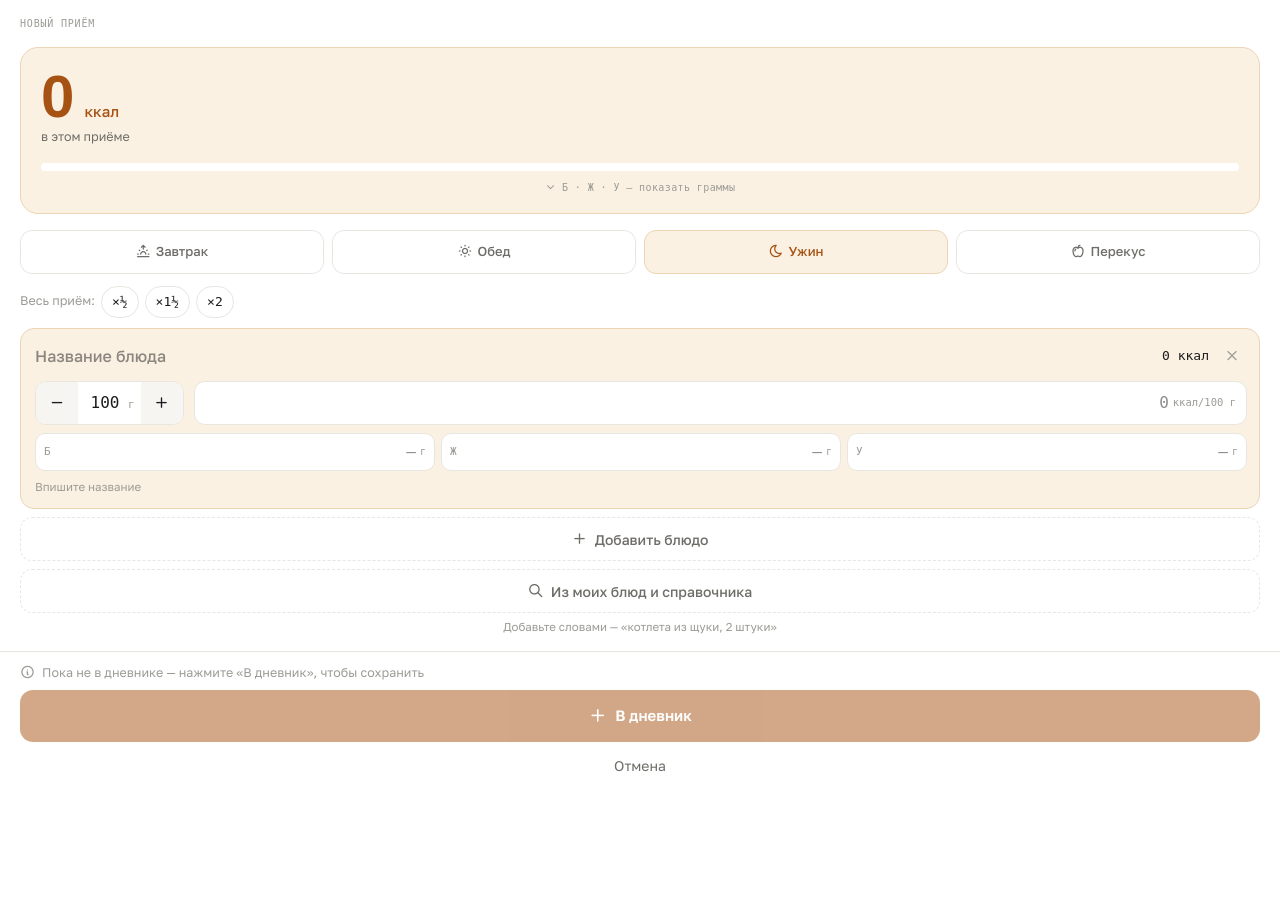
Test: В. известные калории и БЖУ вводятся напрямую › невозможное значение (150 г белка на 100 г) — подсказка и сохранение заблокировано
Type "X" into the field labelled "Название блюда".
click(594, 356); type("X")  # box 35,344 -> 1154,368
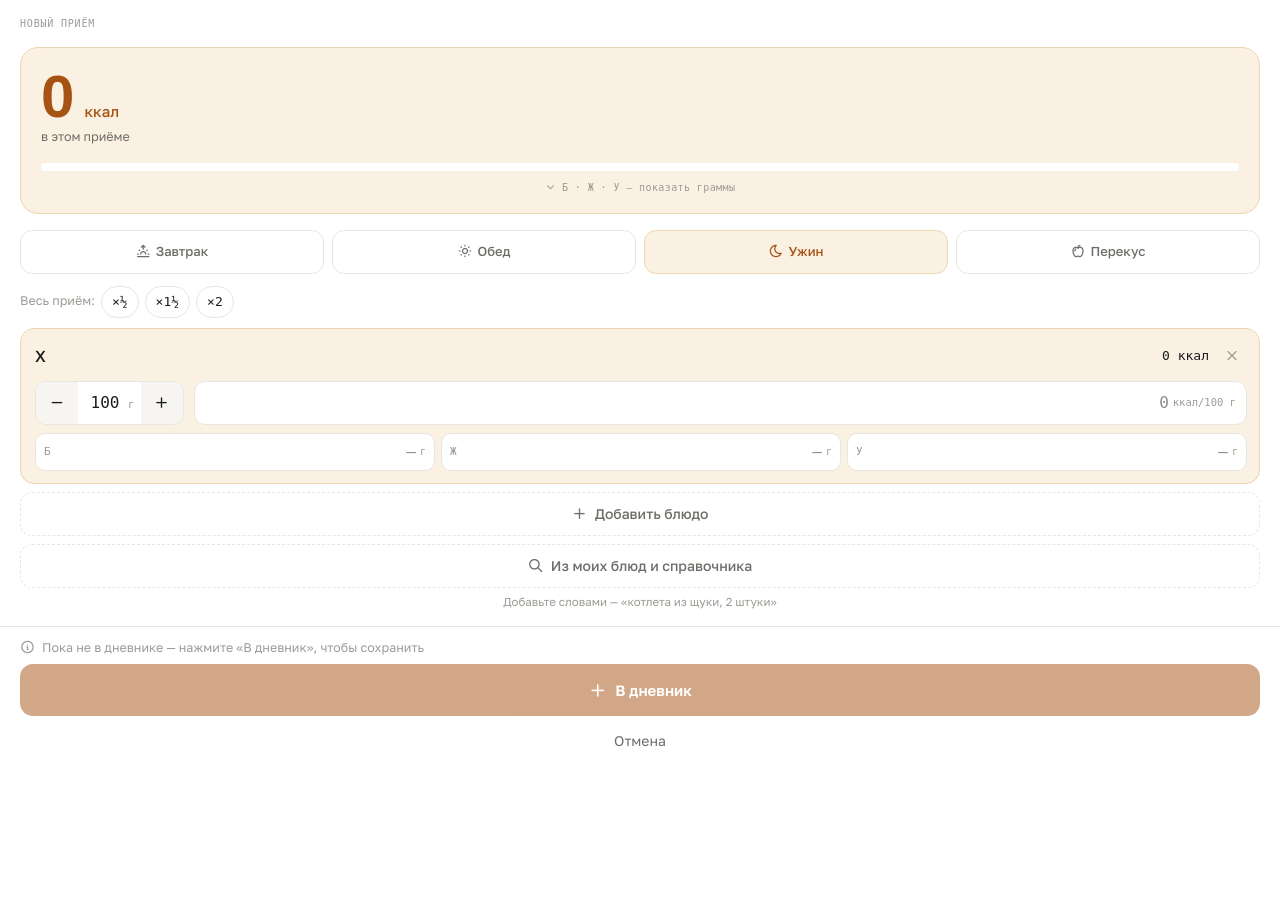
Type "200" into the field named "Калорийность на 100 грамм".
click(1143, 403); type("200")  # box 1117,391 -> 1169,415
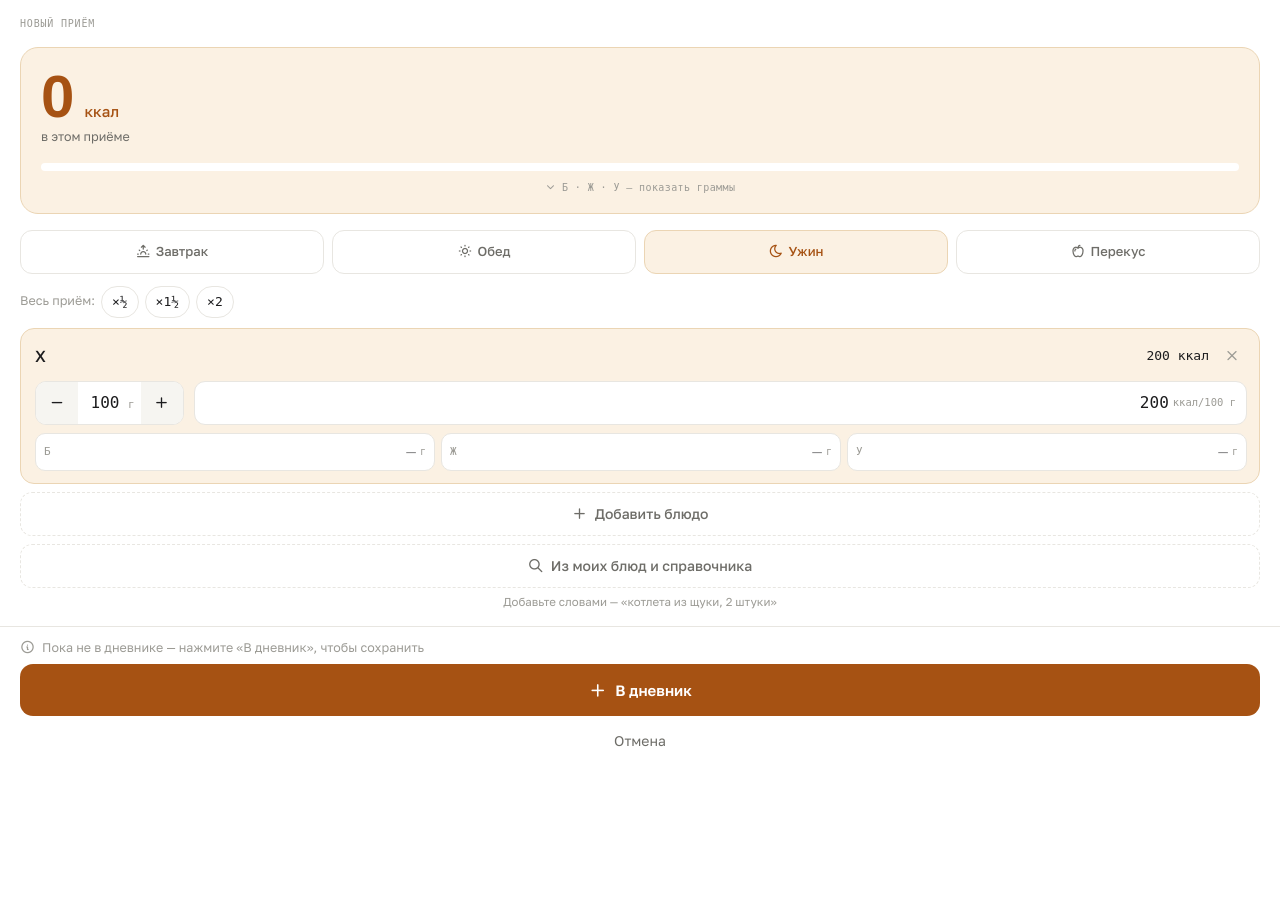
Type "150" into the field named "Белки на 100 грамм".
click(235, 452); type("150")  # box 55,440 -> 416,464
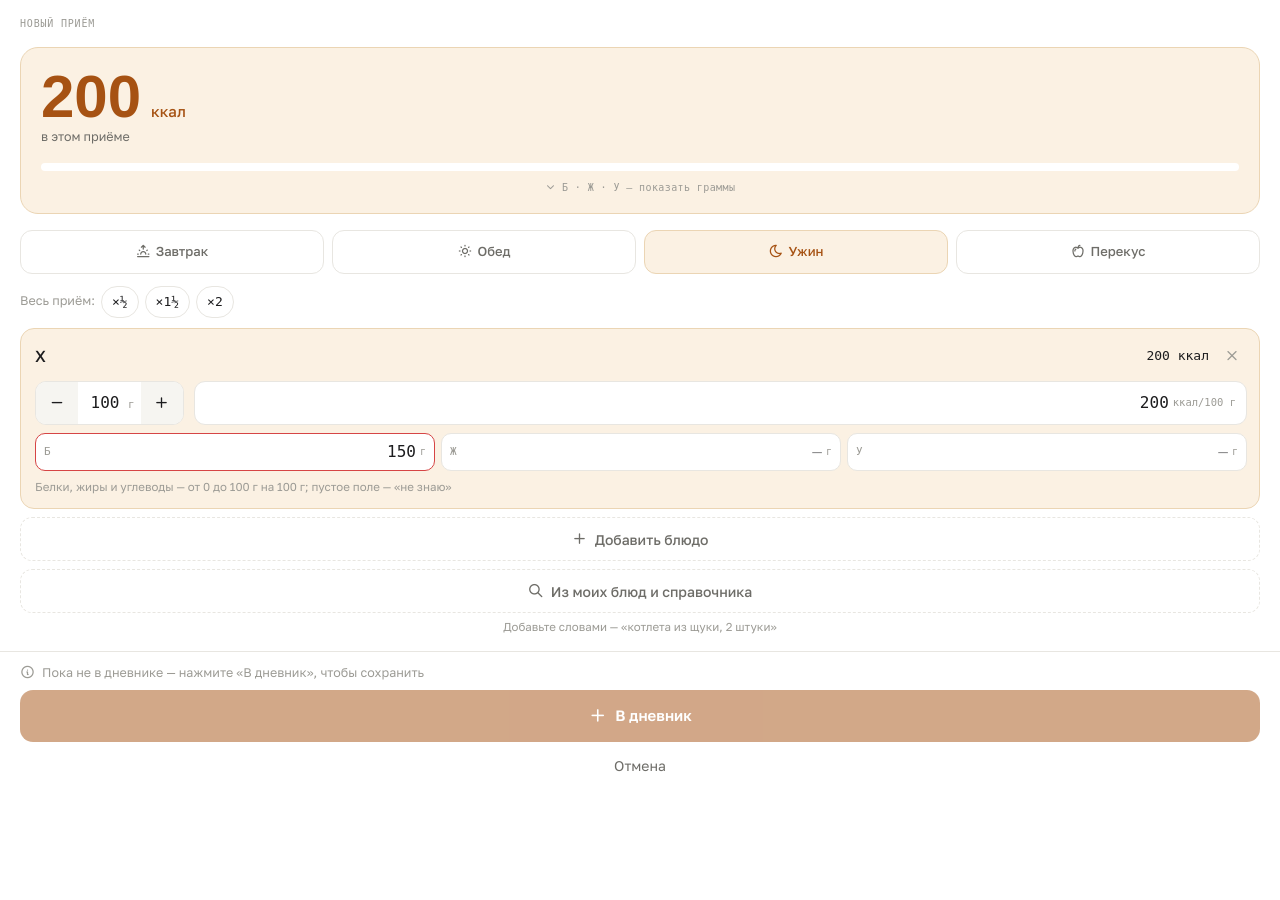
expect the button "В дневник" is disabled: met, box 20,690 -> 1260,742
expect the text "от 0 до 100 г на 100 г" is shown: met, box 35,480 -> 452,494
